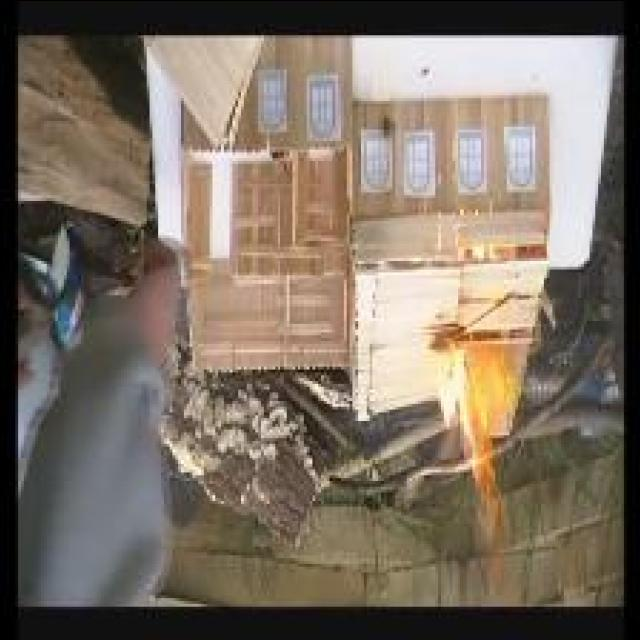Fire: (438, 348, 518, 580)
